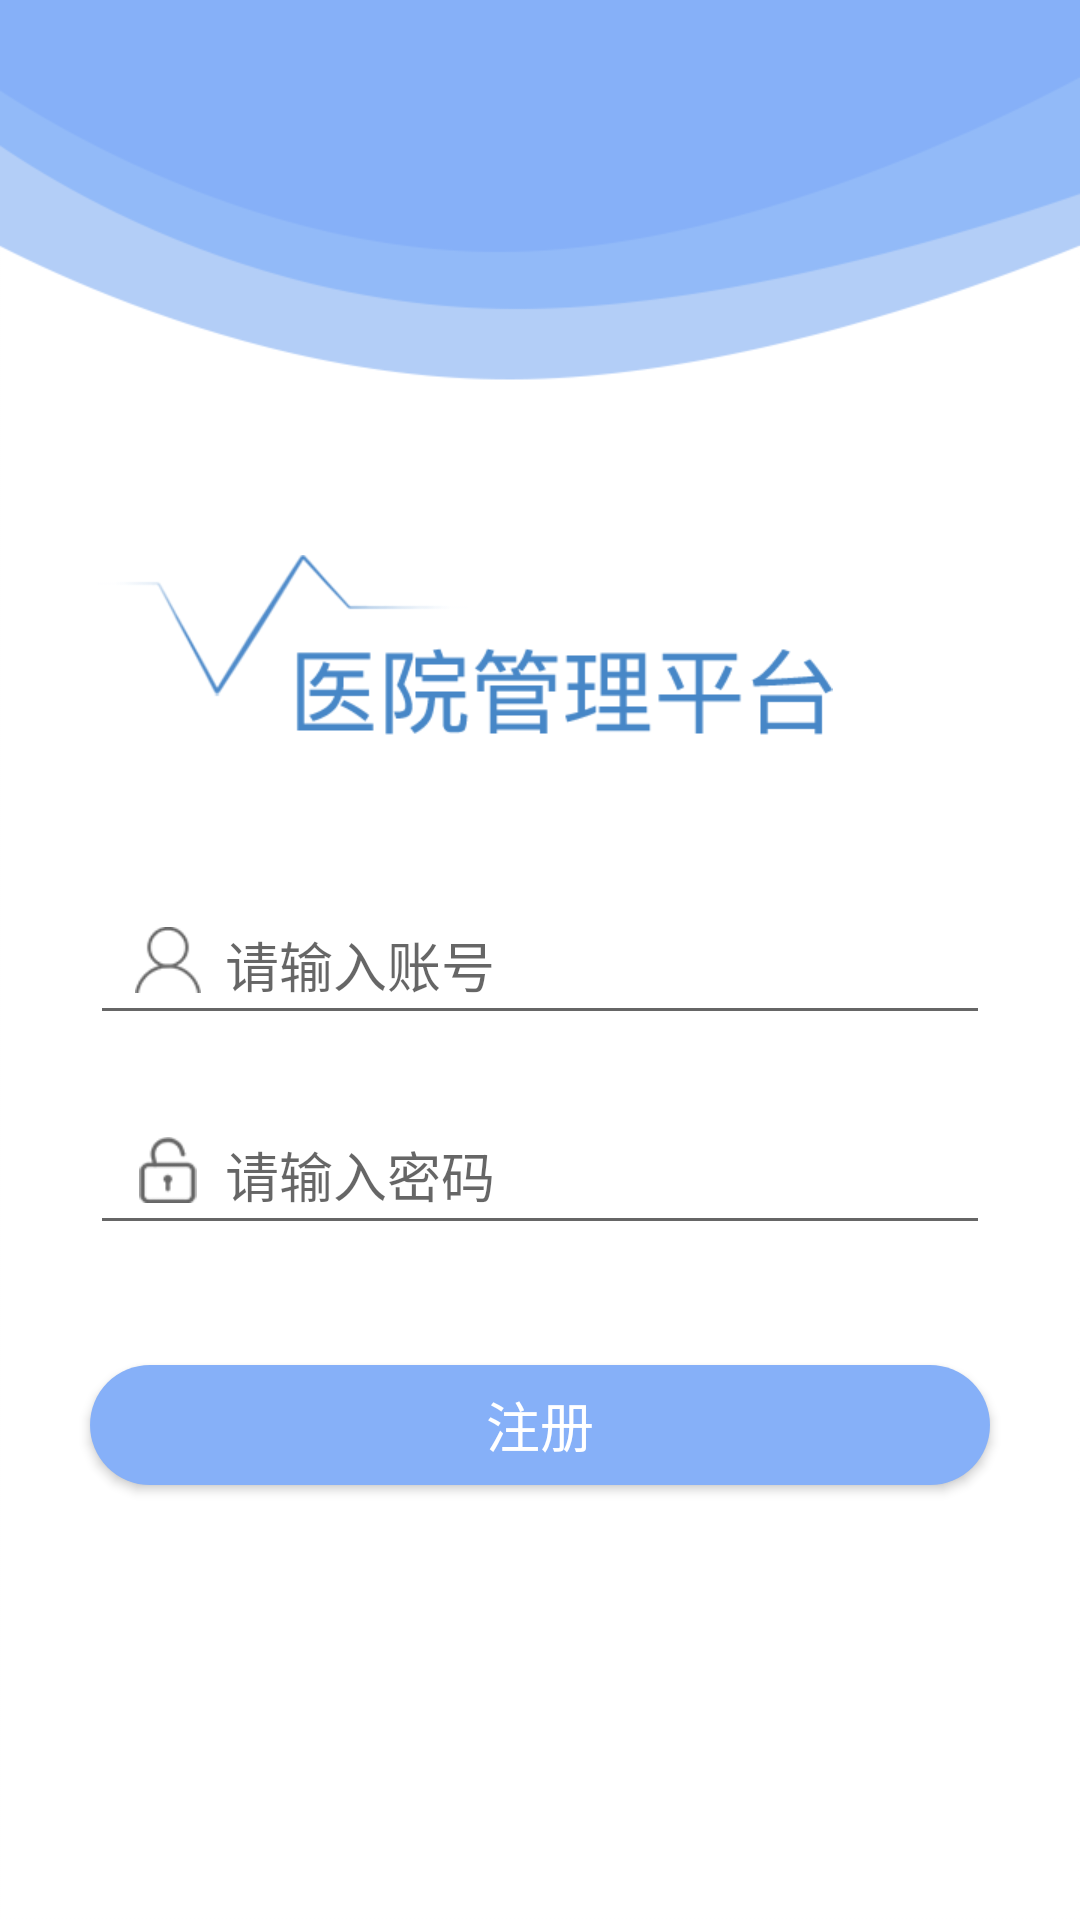

Where to tap for icons on this 1080×1920 app screen, as (x=x, y=y):
user: (x=168, y=960)
